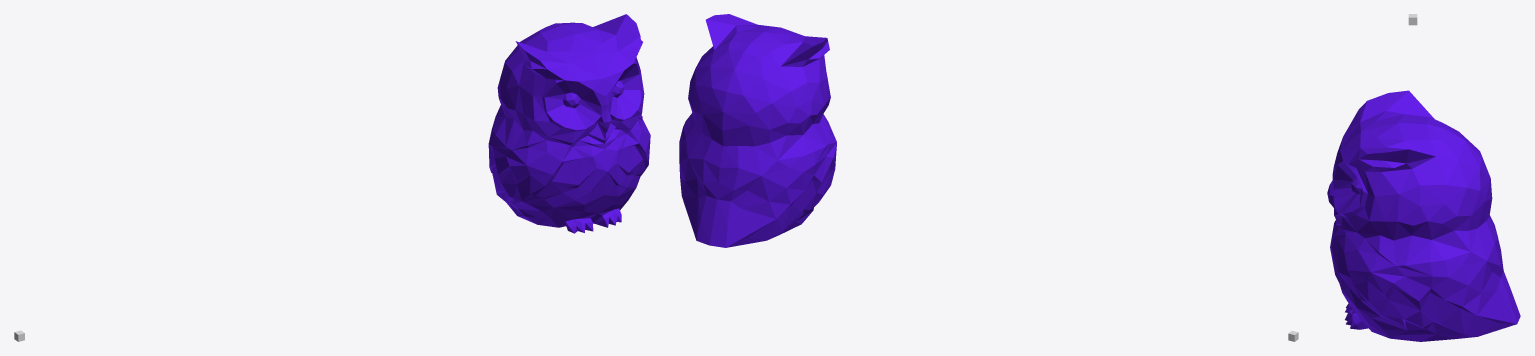
File: owl.glb
3 views of the same model, side by side, from view 1: azimuth 30°, elevation 25°; view 2: azimuth 150°, elevation 25°; view 3: azimuth 270°, elevation 25° (orthographic). The views are drawn at different scales.
Parts seen in each view (by area): view 1: lowpolyowl; view 2: lowpolyowl; view 3: lowpolyowl.
Part boxes in pixels (<box>): lowpolyowl: <box>488,14,650,233</box>; lowpolyowl: <box>679,14,836,247</box>; lowpolyowl: <box>1327,90,1520,341</box>.
Bounding box in the file's own units: 183 × 51.37 × 45.49.
